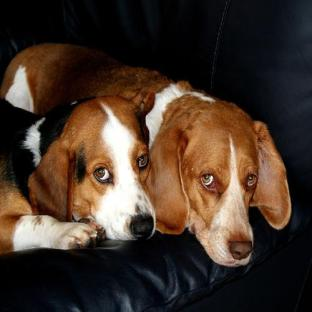Animal: (0, 43, 290, 266)
